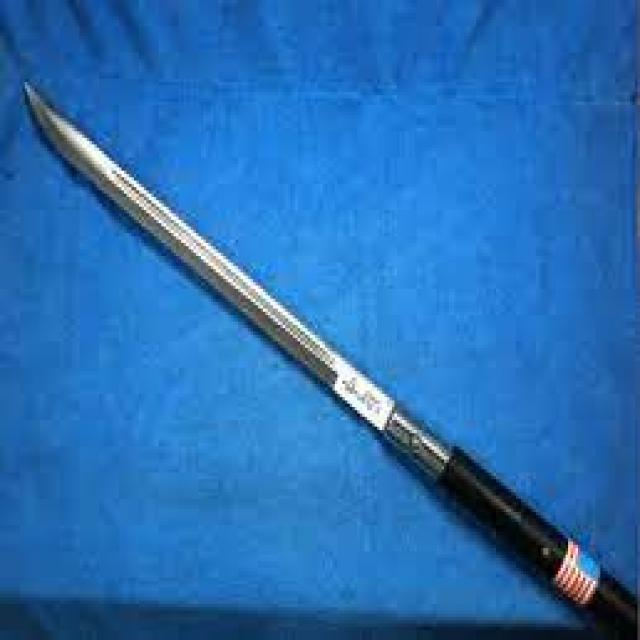long sword: (15, 72, 630, 634)
